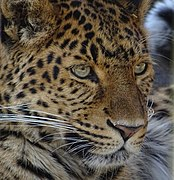amur_leopard: (1, 1, 171, 174)
